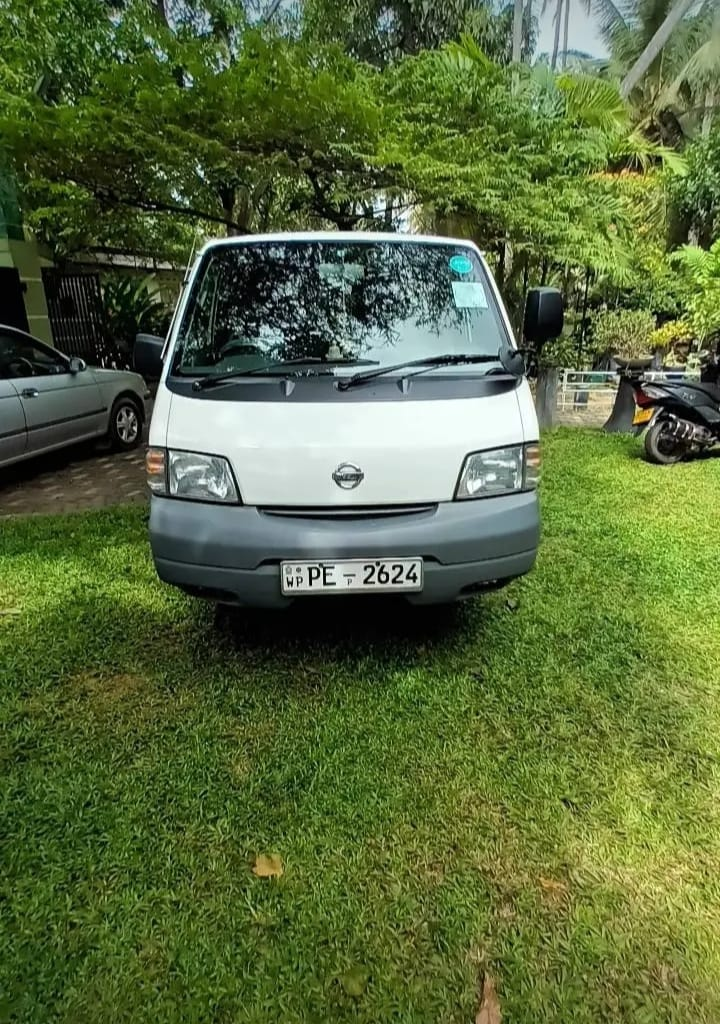number_plate: (279, 563, 422, 592)
